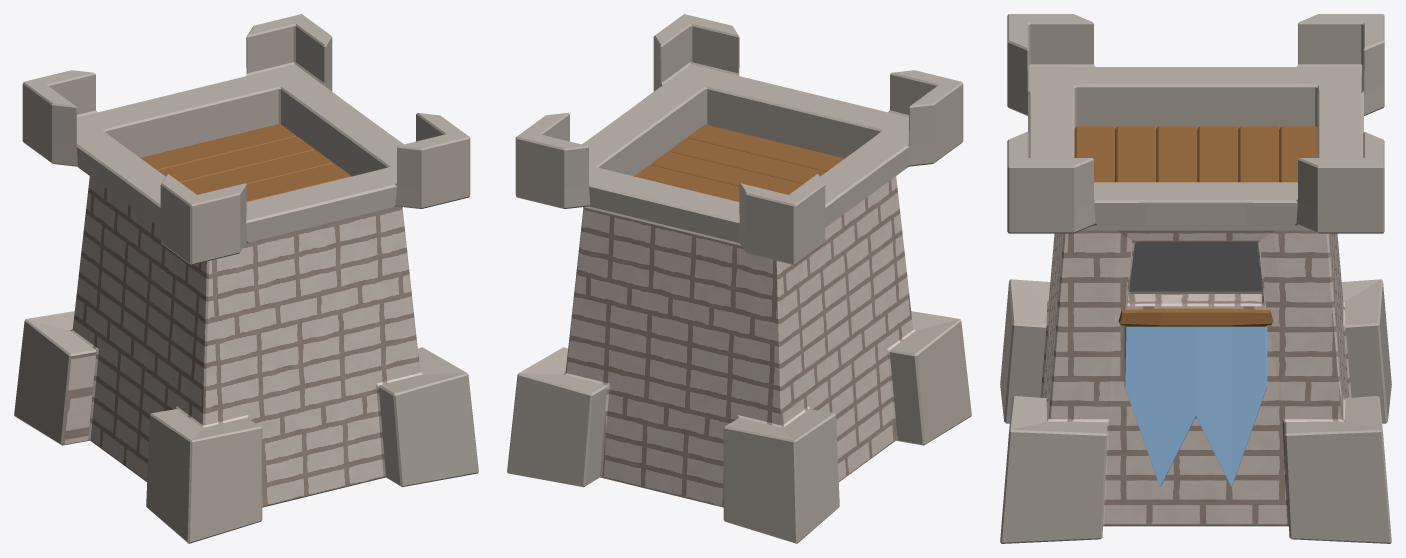
Rendered from tower.fbx.
3 renders of one model, left to right at view 1: azimuth 30°, elevation 25°; view 2: azimuth 150°, elevation 25°; view 3: azimuth 270°, elevation 25°, orthographic. The views are drawn at different scales.
Parts seen in each view (by area): view 1: Cube.008, Cube; view 2: Cube.008, Cube; view 3: Cube.008, Cube.
Part boxes in pixels (x1,y1,x2,y2): Cube.008: [14, 14, 478, 543]; Cube: [140, 124, 351, 201]; Cube.008: [507, 14, 971, 543]; Cube: [634, 124, 844, 201]; Cube.008: [1000, 14, 1391, 543]; Cube: [1074, 126, 1317, 182].
Bounding box in the file's own units: 624 × 687 × 650.
